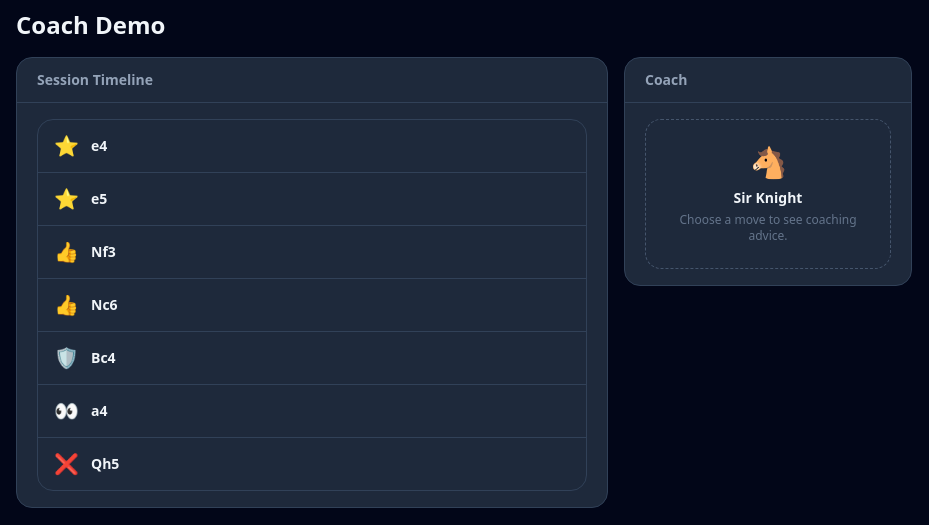
it: CoachDemoPage › updates coach panel to Oops when Qh5 clicked
Click the text "Qh5". click: (105, 464)
box: [91,454,119,473]
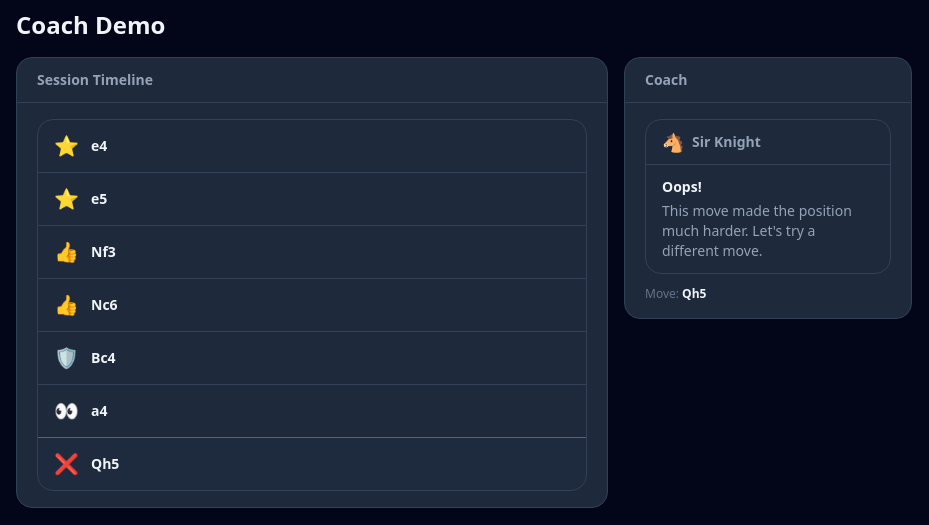
Now the text "Oops!" is shown, box [662,177,702,196]
Now the text "much harder" is shown, box [662,201,852,260]
